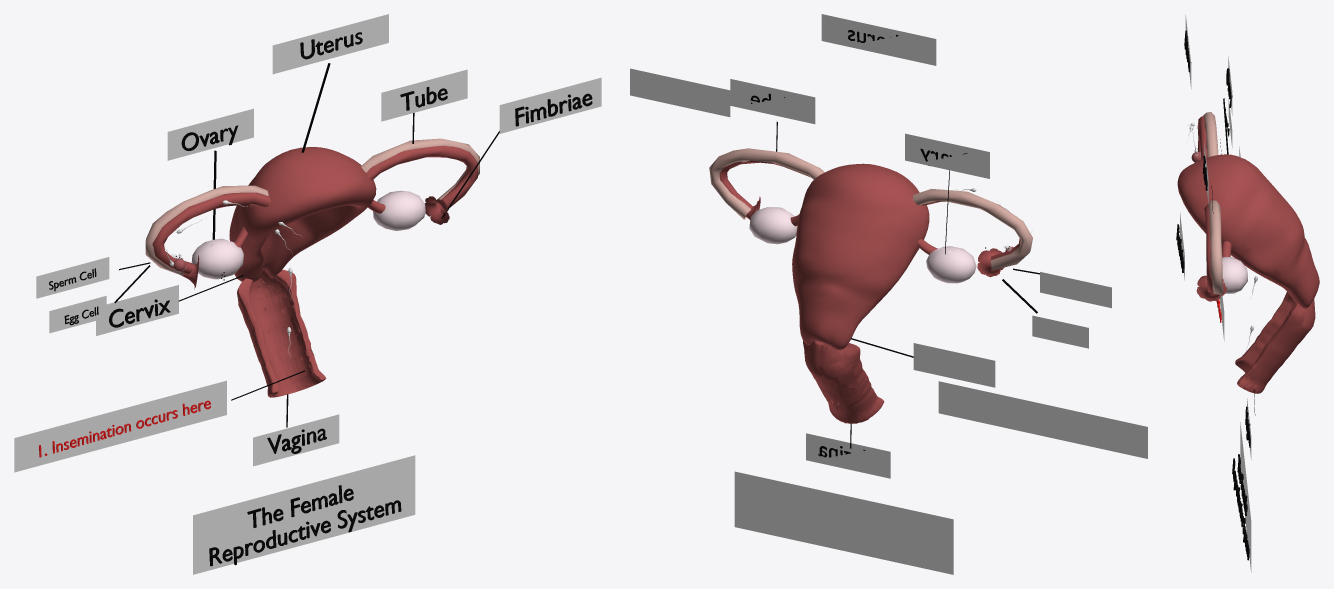
The picture shows the model from 3 angles, left to right: view 1: azimuth 30°, elevation 25°; view 2: azimuth 150°, elevation 25°; view 3: azimuth 270°, elevation 25°; orthographic projection. The views are drawn at different scales.
Visible parts, largest first — view 1: Plane.064, WOMB.003, Plane.133, OVARIES.003, Plane.057, Object_7.003, Text.033, Plane.053, Plane.055, Object_6.004, Plane.063, Plane.061 (+11 smaller); view 2: WOMB.003, Plane.064, Plane.133, Plane.057, OVARIES.003, Plane.053, Plane.055, Plane.059, Plane.063, Plane.061, TUBE_L.006, TUBE_R.006 (+5 smaller); view 3: WOMB.003, Object_4.003, TUBE_R.006, Object_6.004, OVARIES.003, Text.033, Object_5.003, Plane.064, TUBE_L.006, TUBE_R.007, Material2.776, TUBE_L.007.
Part boxes in pixels (x1,y1,x2,y2): Plane.064: (193,455,415,574); WOMB.003: (229,147,376,282); Plane.133: (14,380,226,472); OVARIES.003: (191,190,425,279); Plane.057: (272,14,388,74); Object_7.003: (250,269,325,397); Text.033: (209,485,401,566); Plane.053: (499,77,601,133); Plane.055: (381,69,467,121); Object_6.004: (238,269,325,397); Plane.063: (167,108,253,160); Plane.061: (253,414,339,466); WOMB.003: (792,163,929,350); Plane.064: (734,471,953,574); Plane.133: (938,381,1147,458); Plane.057: (821,14,936,65); OVARIES.003: (749,207,976,283); Plane.053: (630,68,730,117); Plane.055: (730,79,815,124); Plane.059: (913,343,995,387); Plane.063: (905,133,989,178); Plane.061: (806,433,890,478); TUBE_L.006: (913,188,1032,270); TUBE_R.006: (709,148,824,219); WOMB.003: (1177,154,1319,308); Object_4.003: (1235,292,1315,393); TUBE_R.006: (1208,200,1223,294); Object_6.004: (1237,303,1313,393); OVARIES.003: (1206,257,1247,293); Text.033: (1232,454,1249,560); Object_5.003: (1235,299,1314,393); Plane.064: (1240,422,1251,572); TUBE_L.006: (1203,112,1218,157); TUBE_R.007: (1204,204,1213,293); Material2.776: (1196,275,1226,301); TUBE_L.007: (1197,116,1207,160).
Size of the model in its own units: 6.33 by 5.72 by 1.54.
Materials: 16 (2 with a texture image).
